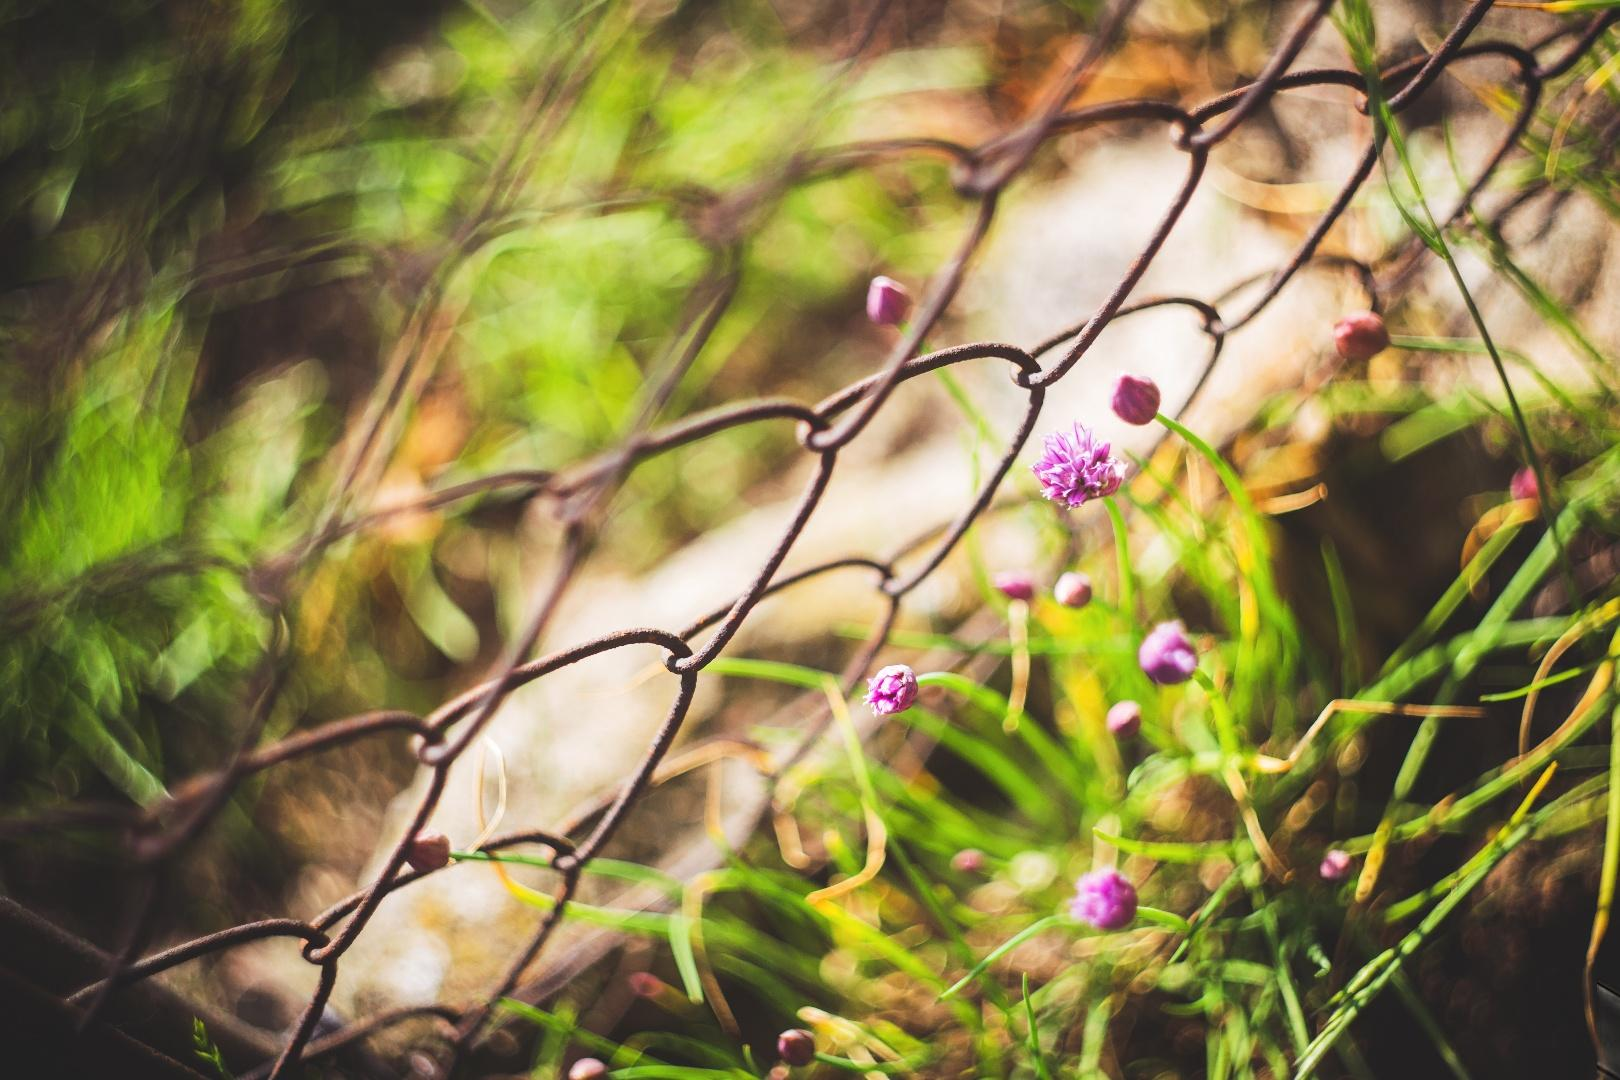plastic-bottles: (1597, 926, 1620, 1080)
